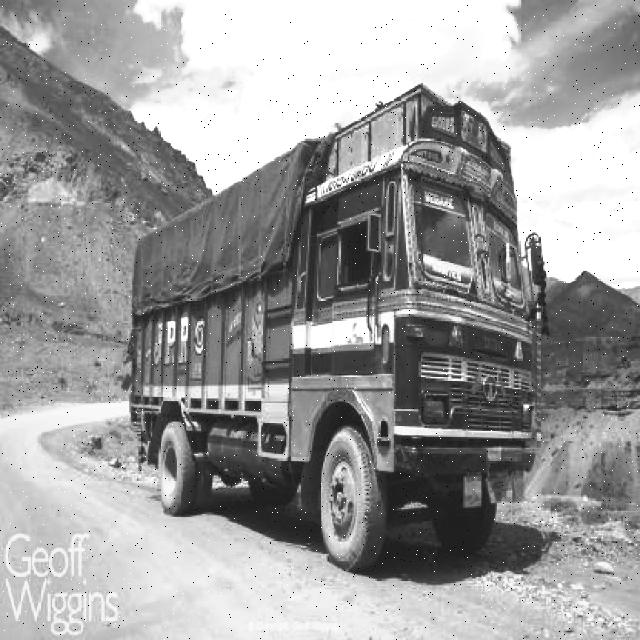HCV: (123, 205, 532, 576)
